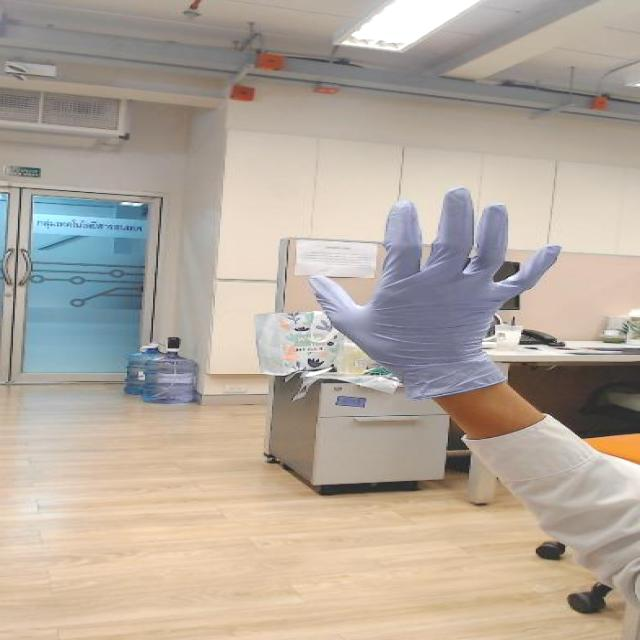glove: (275, 180, 578, 342)
